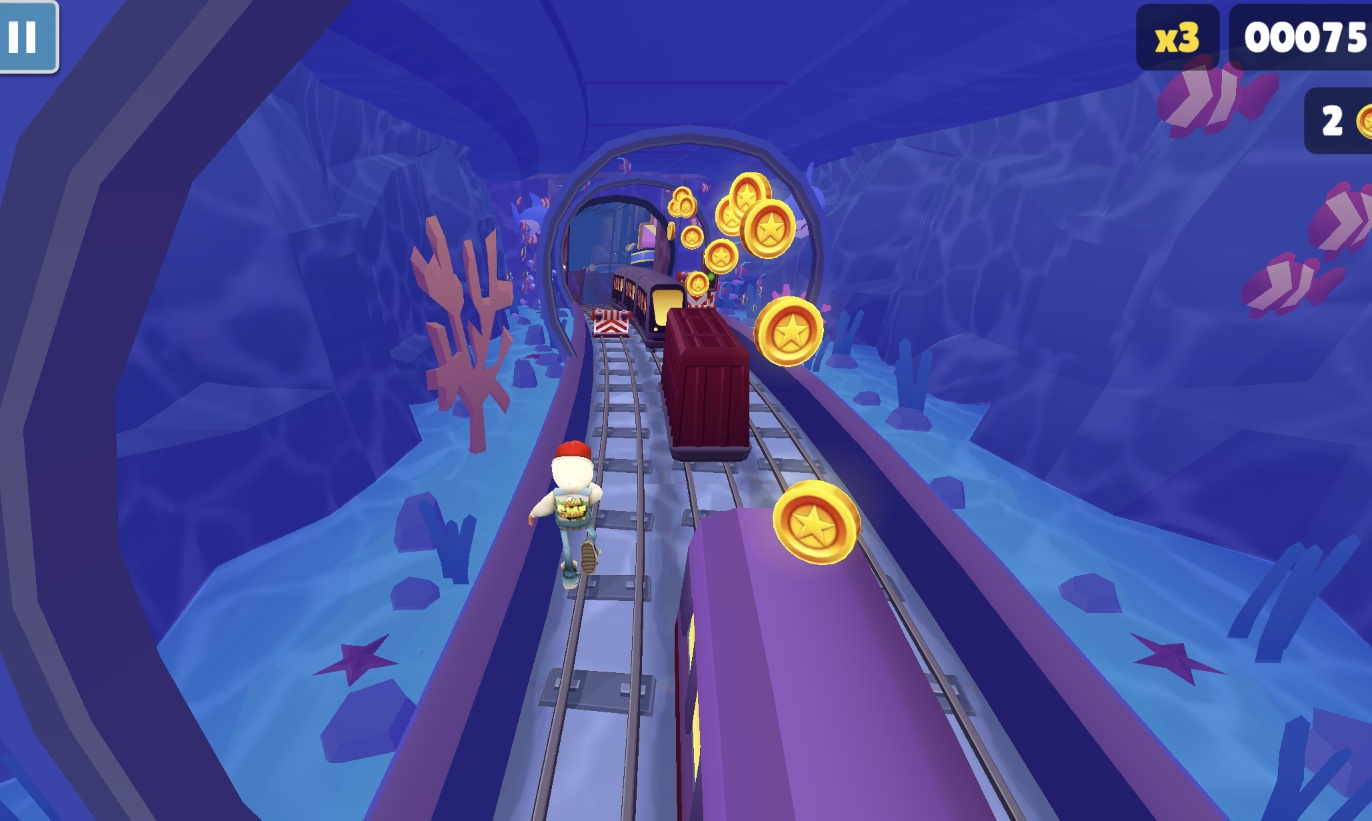ground_barrier: (586, 309, 625, 340)
overhead_barrier: (664, 277, 700, 320)
train: (673, 512, 995, 821), (659, 304, 756, 468), (618, 274, 696, 354), (577, 265, 613, 316)
